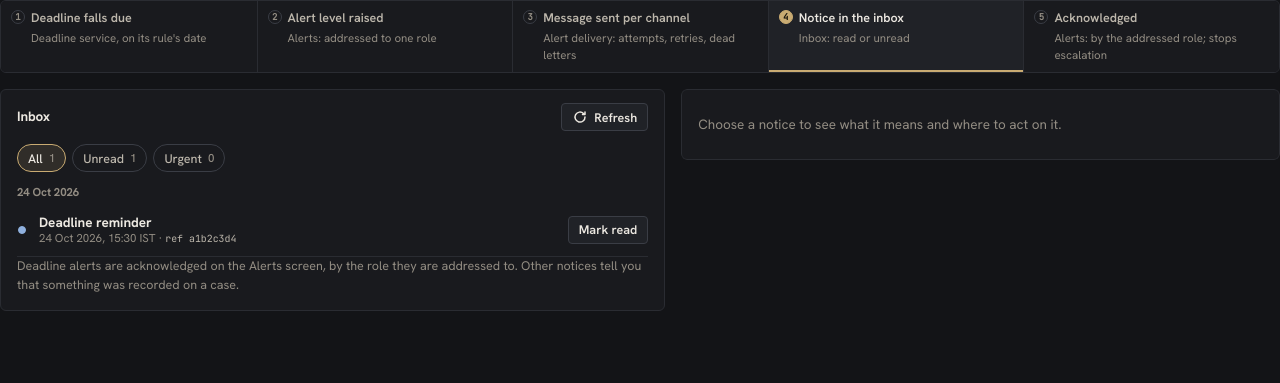
Scenario: resilience › shows a failed action instead of failing silently
Click the button "Mark read" at (608, 230), box [568,216,648,244]
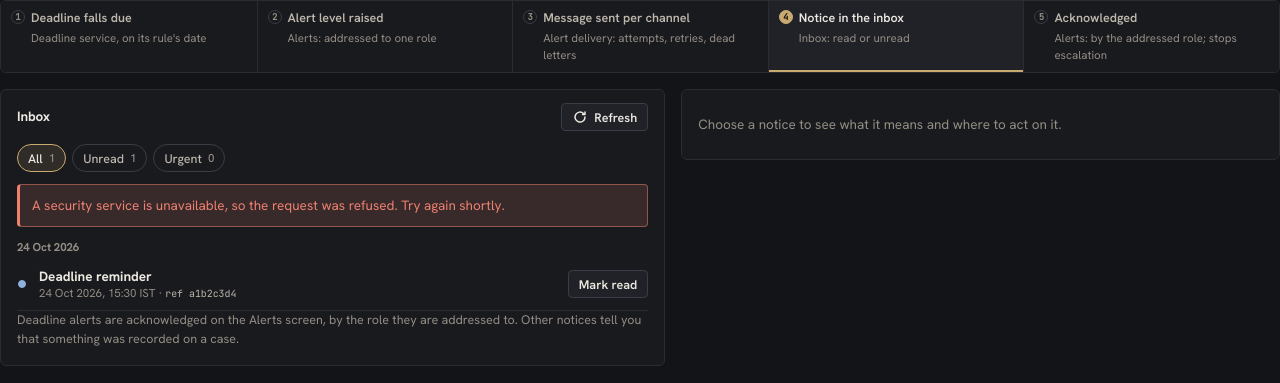
Result: the message shows "unavailable" at [32,196,505,214]
